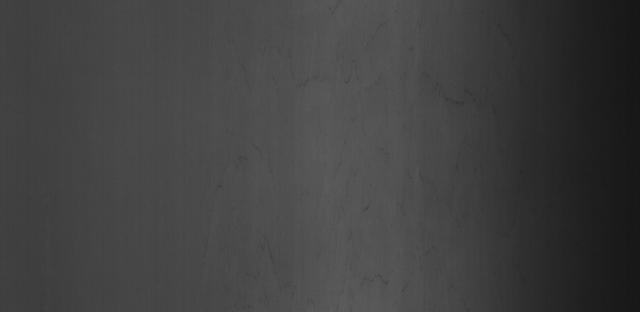silk_spot: (277, 49, 504, 144), (310, 182, 477, 290)
